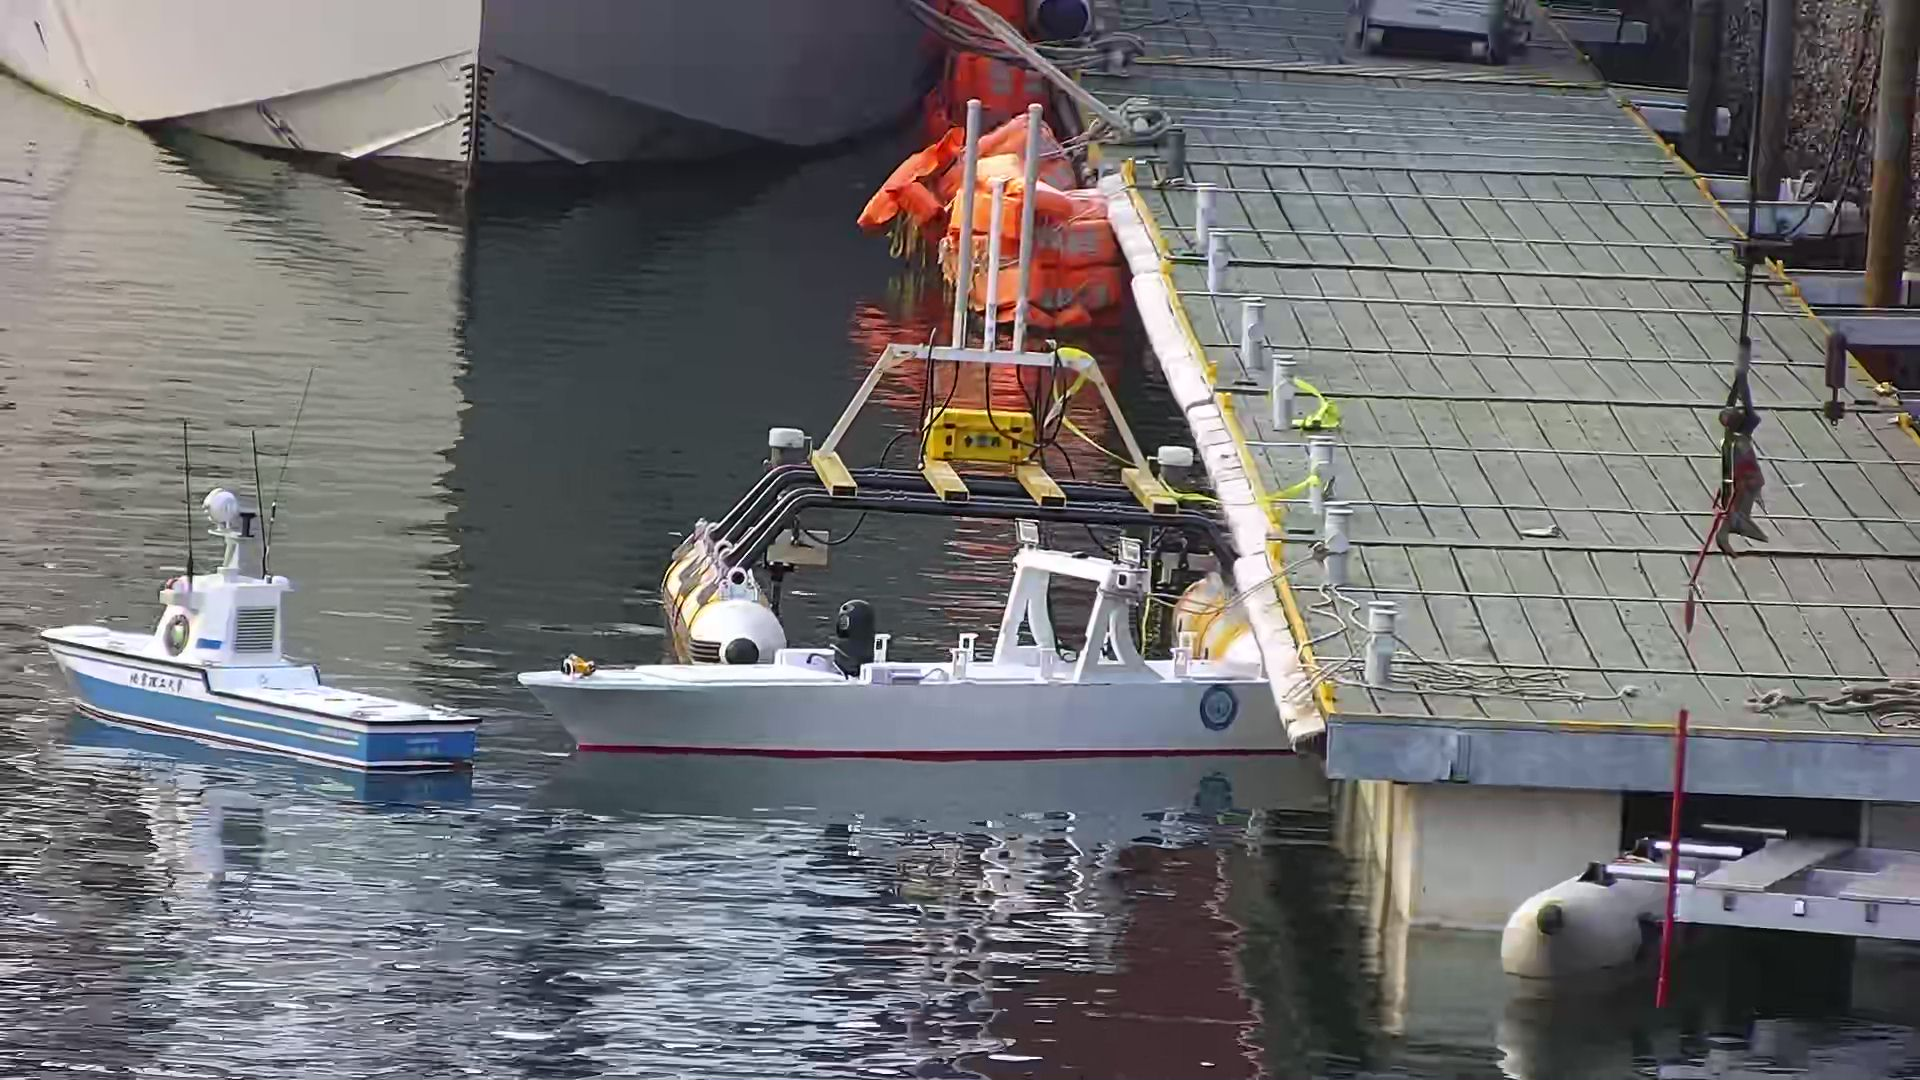boat: (514, 539, 1298, 760), (37, 497, 480, 783)
harbor: (1044, 1, 1919, 923)
